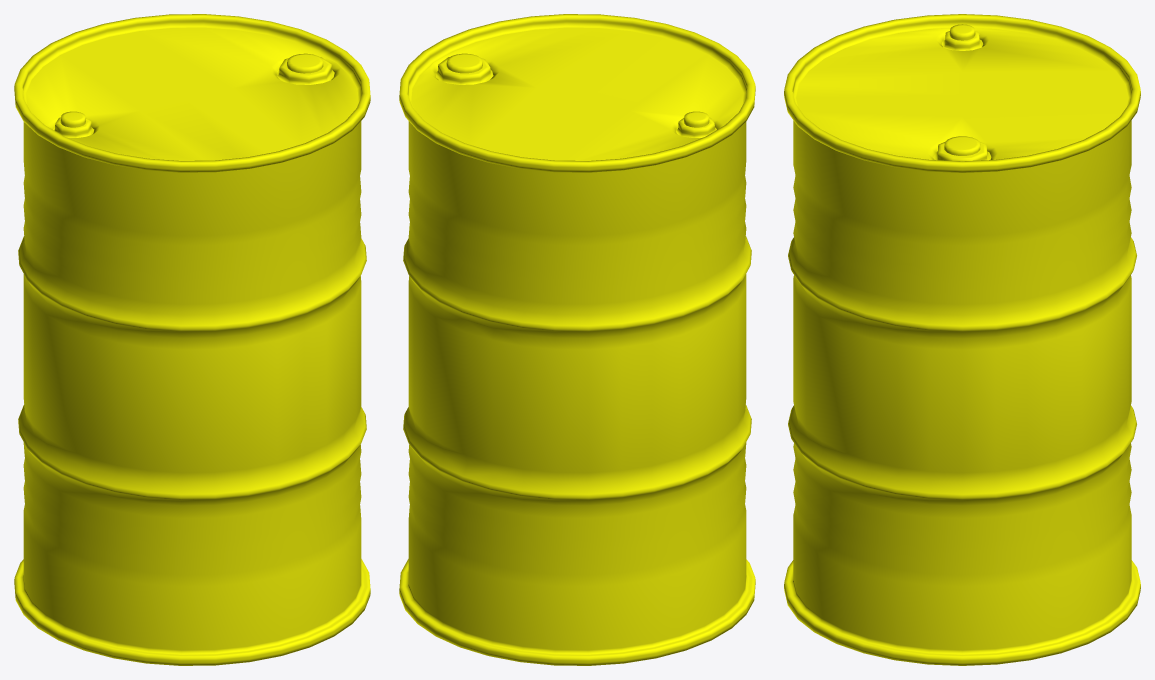
The model's file is barrel.glb.
3 views of the same model, side by side, from view 1: azimuth 30°, elevation 25°; view 2: azimuth 150°, elevation 25°; view 3: azimuth 270°, elevation 25° (orthographic).
Visible parts, largest first — view 1: Barrel_Bootcamp; view 2: Barrel_Bootcamp; view 3: Barrel_Bootcamp.
Boxes of the visible parts, left/top/right/bottom form: Barrel_Bootcamp: left=14, top=14, right=370, bottom=665; Barrel_Bootcamp: left=399, top=14, right=755, bottom=665; Barrel_Bootcamp: left=784, top=14, right=1140, bottom=665.
Bounding box in the file's own units: 0.6013 × 0.9359 × 0.6013.
